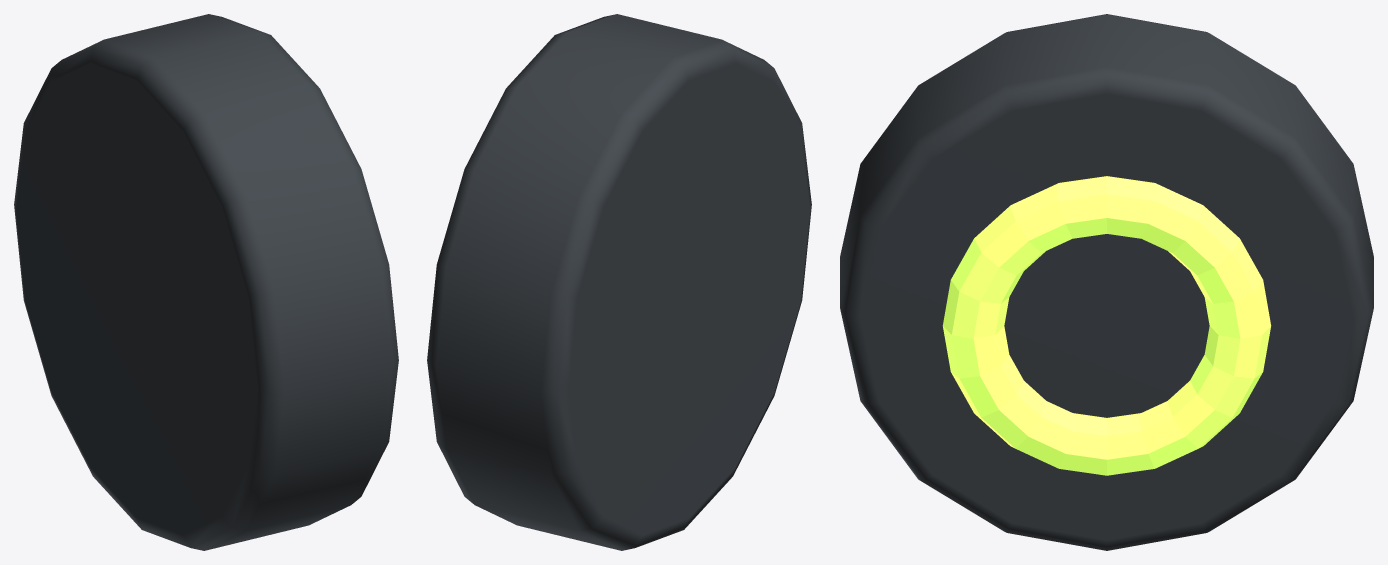
File: variant-wheel.glb
3 renders of one model, left to right at view 1: azimuth 30°, elevation 25°; view 2: azimuth 150°, elevation 25°; view 3: azimuth 270°, elevation 25°, orthographic. The views are drawn at different scales.
Parts seen in each view (by area): view 1: Spare rubber wheel; view 2: Spare rubber wheel; view 3: Spare rubber wheel, Spare lime hub.
Boxes of the visible parts, x1=… form: Spare rubber wheel: x1=14, y1=14, x2=398, y2=550; Spare rubber wheel: x1=427, y1=14, x2=811, y2=550; Spare rubber wheel: x1=840, y1=14, x2=1373, y2=550; Spare lime hub: x1=942, y1=176, x2=1271, y2=475.
Bounding box in the file's own units: 0.21 × 0.52 × 0.52.
